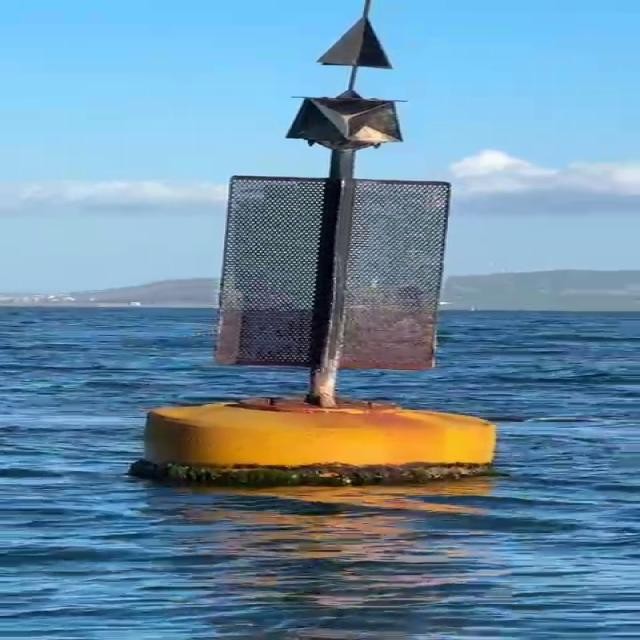marque: (136, 1, 513, 487)
